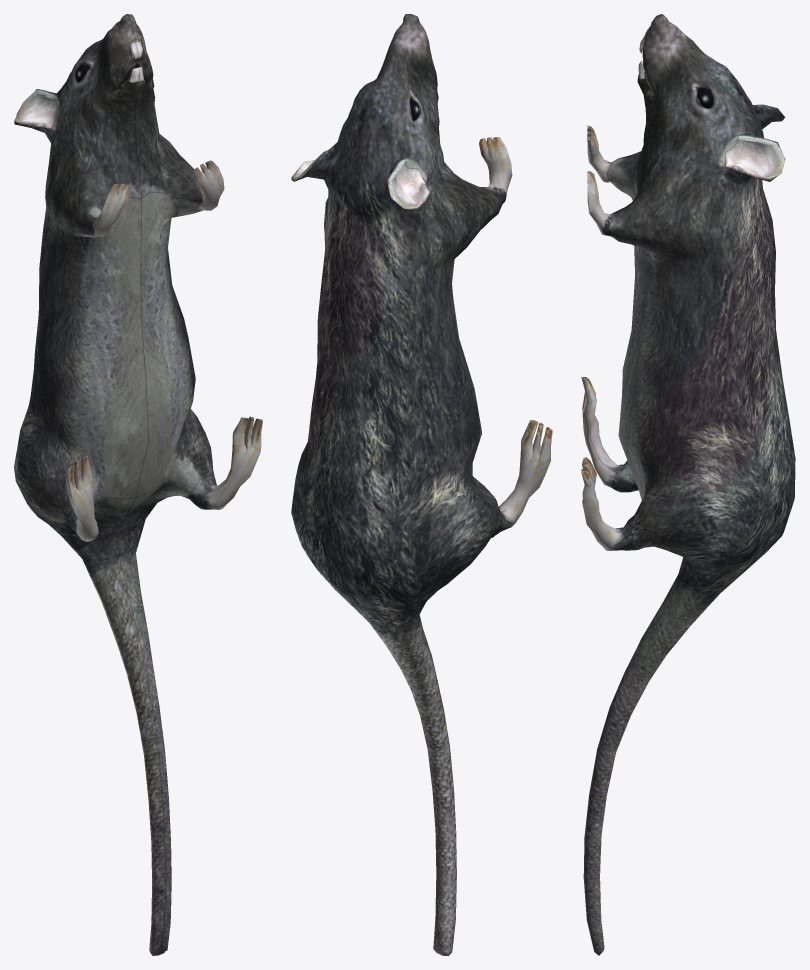
The model's file is Rat.fbx.
The picture shows the model from 3 angles, left to right: view 1: azimuth 30°, elevation 25°; view 2: azimuth 150°, elevation 25°; view 3: azimuth 270°, elevation 25°; orthographic projection. The views are drawn at different scales.
Parts seen in each view (by area): view 1: rat_fin; view 2: rat_fin; view 3: rat_fin.
Part boxes in pixels (box(x1,y1,x2,y2)): rat_fin: box(14, 14, 262, 955); rat_fin: box(291, 14, 552, 955); rat_fin: box(581, 14, 795, 955).
Size of the model in its own units: 3.32 by 14.94 by 3.09.
